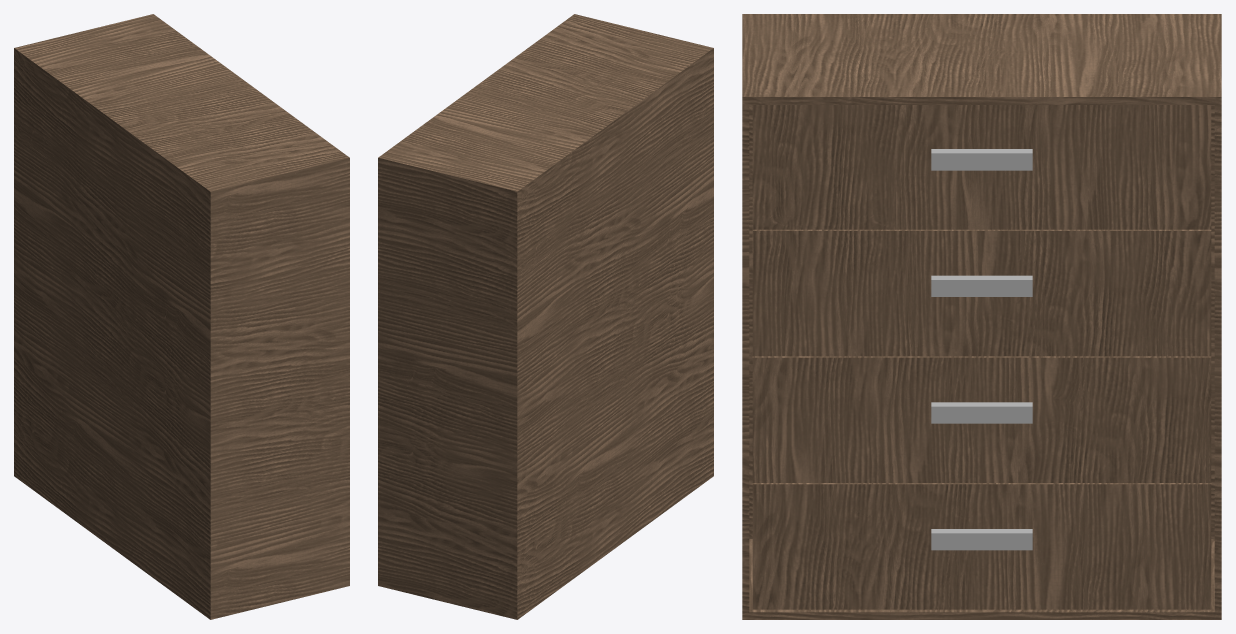
Rendered from dresser.glb.
The picture shows the model from 3 angles, left to right: view 1: azimuth 30°, elevation 25°; view 2: azimuth 150°, elevation 25°; view 3: azimuth 270°, elevation 25°; orthographic projection. The views are drawn at different scales.
Parts seen in each view (by area): view 1: Dresser; view 2: Dresser; view 3: Dresser, Drawer.002, Drawer.003, Drawer.004, Drawer.001, Handle.001, Handle.002, Handle.003, Handle.004.
Boxes of the visible parts, x1,y1,x2,y2 form: Dresser: (14, 14, 349, 619); Dresser: (378, 14, 713, 619); Dresser: (742, 14, 1221, 619); Drawer.002: (752, 229, 1211, 356); Drawer.003: (752, 356, 1211, 482); Drawer.004: (752, 483, 1211, 609); Drawer.001: (752, 105, 1211, 229); Handle.001: (931, 149, 1032, 170); Handle.002: (931, 275, 1032, 296); Handle.003: (931, 402, 1032, 423); Handle.004: (931, 529, 1032, 550).
Size of the model in its own units: 2.09 by 5.87 by 4.88.
2 materials, 1 textured.
